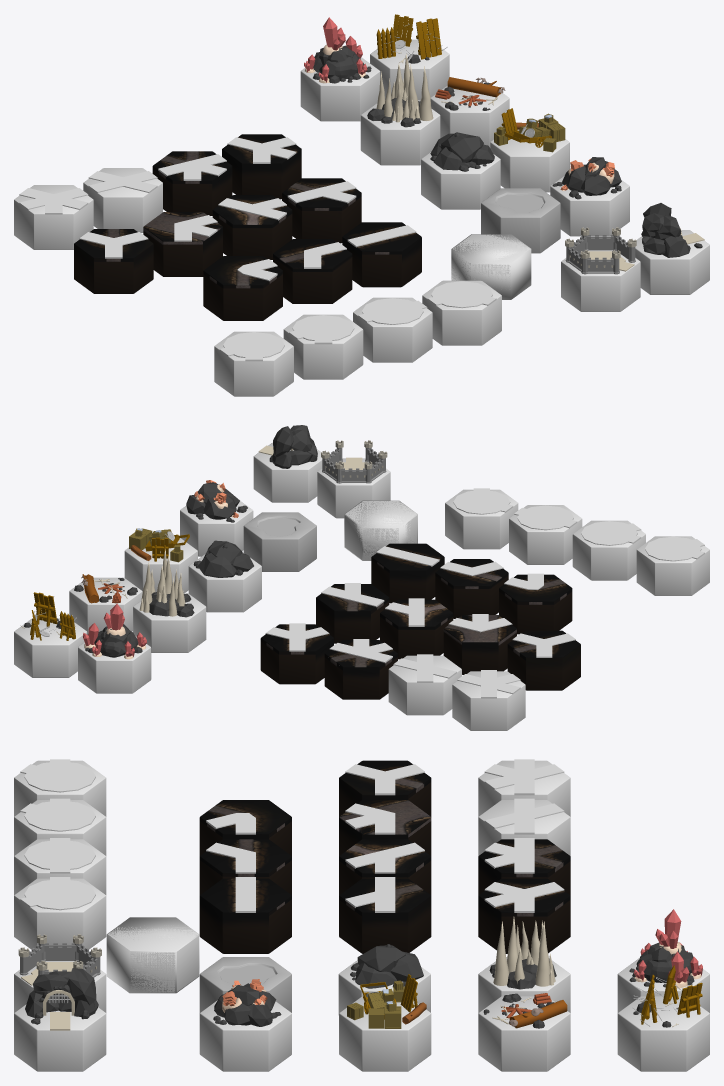
The model's file is Tile_Standard.fbx.
3 views of the same model, one above another, from view 1: azimuth 30°, elevation 25°; view 2: azimuth 150°, elevation 25°; view 3: azimuth 270°, elevation 25° (orthographic). The views are drawn at different scales.
Parts seen in each view (by area): view 1: Cylinder018, BaseN.001, Object003, Start, Environment_Rock, Object021, Cylinder030.001, Object007, Road2T, PoisonSwamp, Road6T, Road0T (+29 smaller); view 2: Object003, Cylinder018, Start, Object007, Environment_Rock, BaseN.001, PoisonSwamp, Cylinder030.001, Road2T, Road6T, Object021, Road0T (+29 smaller); view 3: Start, Object007, Object021, Cylinder030.001, Cylinder011, Road0T, Road3T, Cylinder018, Base, Object003, Road7T, Room1T (+30 smaller).
Part boxes in pixels (<box>): Cylinder018: <box>360,53,440,165</box>; BaseN.001: <box>561,227,640,311</box>; Object003: <box>300,17,380,121</box>; Start: <box>635,203,709,294</box>; Environment_Rock: <box>421,132,500,209</box>; Object021: <box>490,108,569,192</box>; Cylinder030.001: <box>550,157,629,236</box>; Object007: <box>370,14,449,100</box>; Road2T: <box>203,256,282,320</box>; PoisonSwamp: <box>481,188,560,253</box>; Road6T: <box>74,229,153,293</box>; Road0T: <box>342,222,421,287</box>; Object003: <box>78,604,151,693</box>; Cylinder018: <box>133,549,206,652</box>; Start: <box>253,425,322,502</box>; Object007: <box>14,592,87,677</box>; Environment_Rock: <box>188,540,261,612</box>; BaseN.001: <box>317,440,390,518</box>; PoisonSwamp: <box>243,512,316,571</box>; Cylinder030.001: <box>180,480,253,556</box>; Road2T: <box>499,574,572,634</box>; Road6T: <box>507,630,580,690</box>; Object021: <box>124,528,197,593</box>; Road0T: <box>371,543,444,603</box>; Start: <box>14,968,106,1071</box>; Object007: <box>617,965,709,1071</box>; Object021: <box>339,974,431,1071</box>; Cylinder030.001: <box>199,979,291,1071</box>; Cylinder011: <box>478,993,570,1071</box>; Road0T: <box>199,878,291,953</box>; Road3T: <box>339,878,431,953</box>; Cylinder018: <box>478,916,570,1012</box>; Base: <box>108,927,198,992</box>; Object003: <box>617,909,709,1012</box>; Road7T: <box>478,878,570,953</box>; Room1T: <box>14,878,106,949</box>.
Bounding box in the file's own units: 1375 × 246 × 1499.
